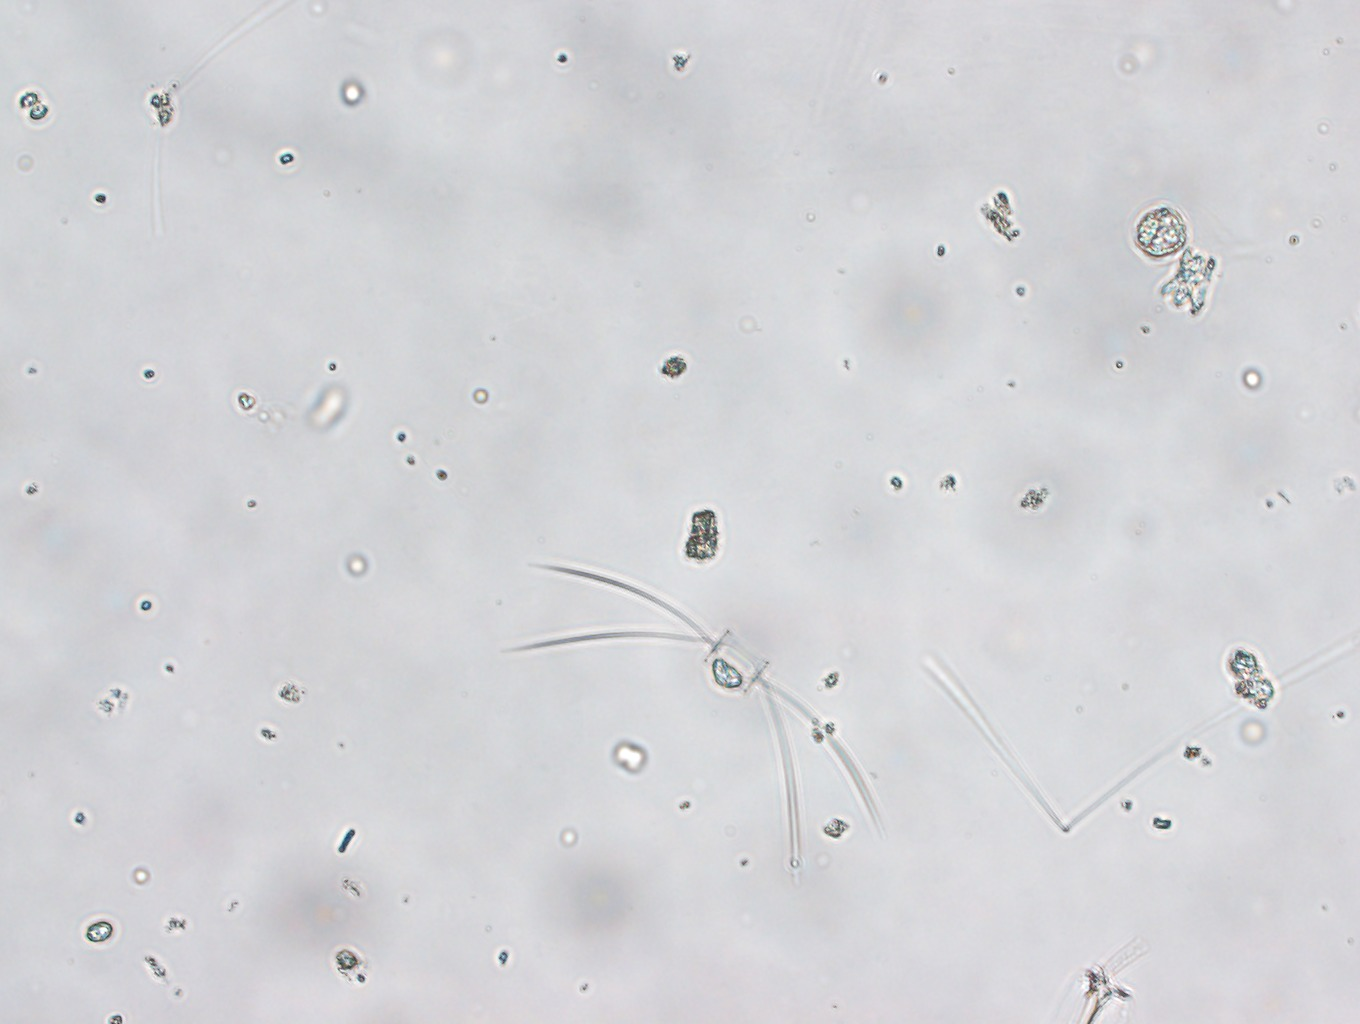chaetoceros: (517, 558, 899, 873)
